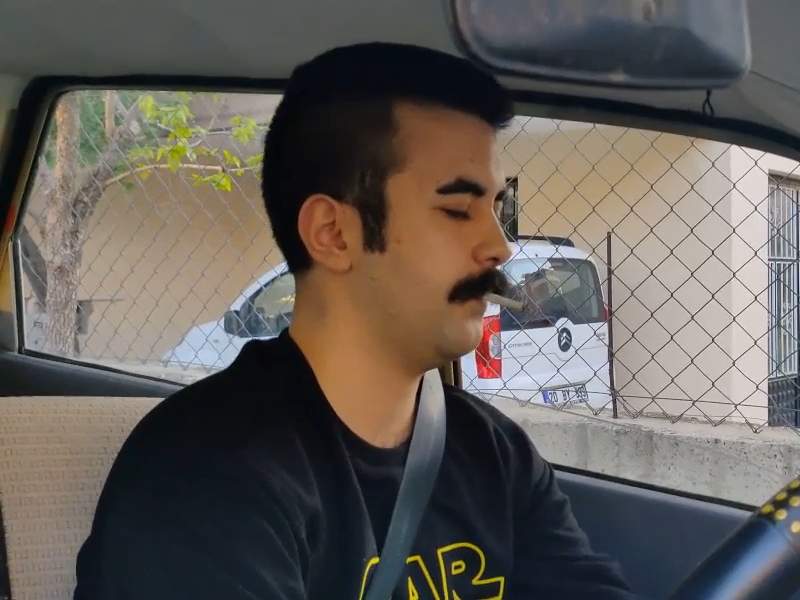sigara: (477, 288, 531, 316)
